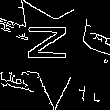N_E: (31, 29, 80, 70)
